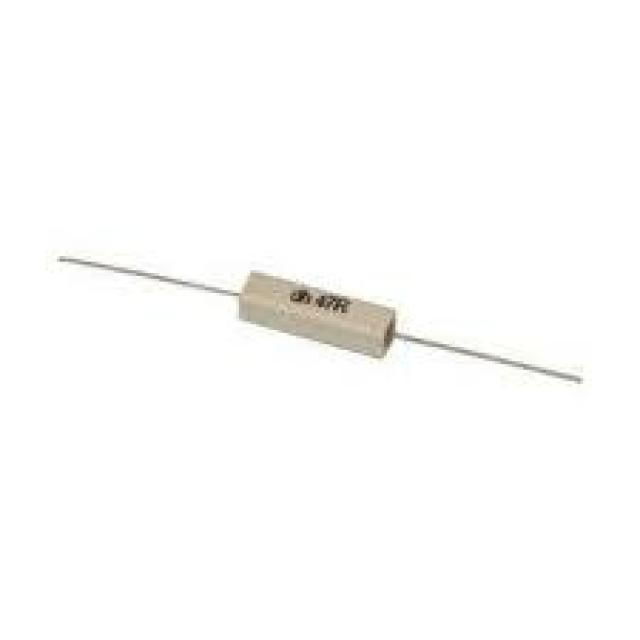Resistor: (235, 268, 398, 360)
